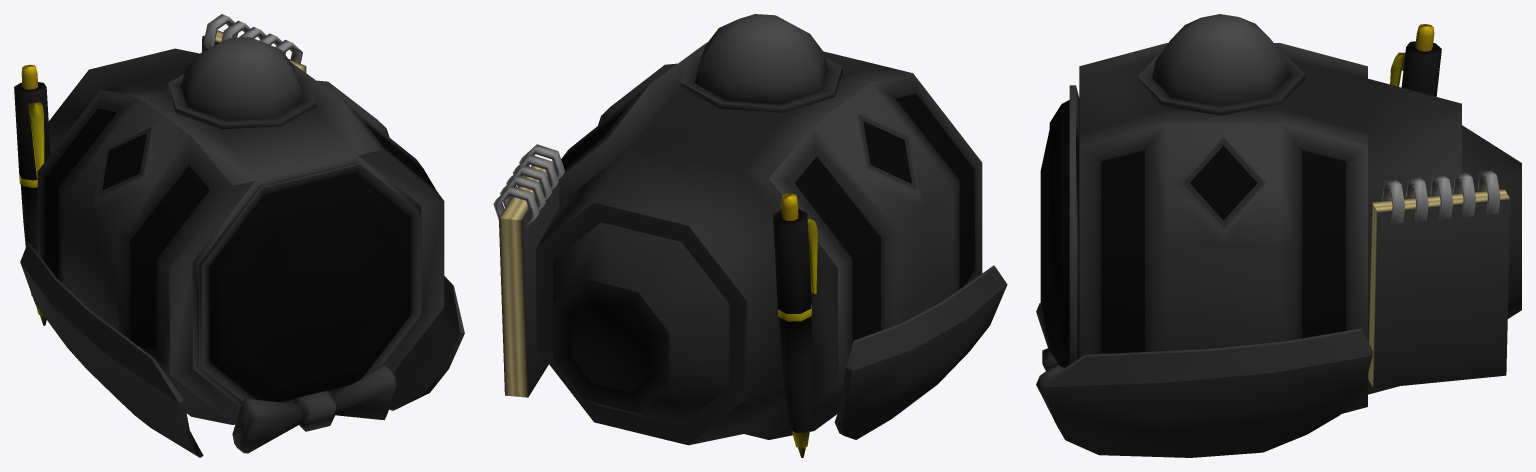
Rendered from DRONE.fbx.
3 renders of one model, left to right at view 1: azimuth 30°, elevation 25°; view 2: azimuth 150°, elevation 25°; view 3: azimuth 270°, elevation 25°, orthographic. The views are drawn at different scales.
Visible parts, largest first — view 1: Camera Drone, Fin RD, Hat, Bow Tie, Back Detail R, Fin LD, Back Detail L; view 2: Camera Drone, Fin RD, Hat, Back Detail L, Back Detail R; view 3: Camera Drone, Fin LD, Back Detail L, Hat, Back Detail R, Bow Tie.
Boxes of the visible parts, x1,y1,x2,y2 form: Camera Drone: [37, 48, 444, 424]; Fin RD: [20, 242, 203, 457]; Hat: [167, 37, 316, 129]; Bow Tie: [232, 365, 396, 453]; Back Detail R: [14, 64, 50, 325]; Fin LD: [389, 276, 464, 410]; Back Detail L: [202, 14, 306, 72]; Camera Drone: [536, 42, 982, 445]; Fin RD: [834, 265, 1007, 439]; Hat: [680, 14, 842, 112]; Back Detail L: [493, 144, 564, 397]; Back Detail R: [773, 193, 817, 457]; Camera Drone: [1040, 43, 1521, 413]; Fin LD: [1043, 328, 1372, 457]; Back Detail L: [1368, 170, 1510, 388]; Hat: [1136, 14, 1305, 115]; Back Detail R: [1390, 24, 1441, 96]; Bow Tie: [1036, 302, 1064, 428].
Bounding box in the file's own units: 43.81 × 45.11 × 51.78.
